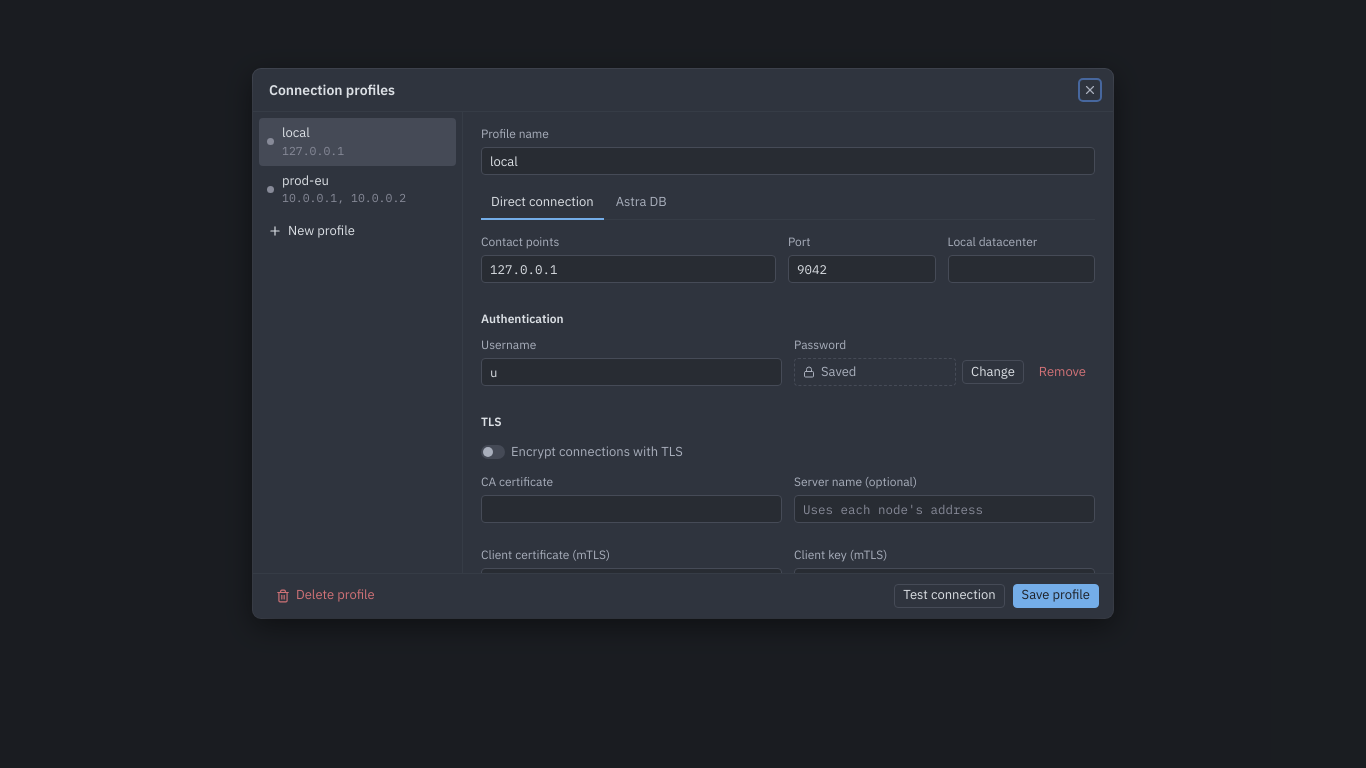
Test: ProfileDialog › tests the unsaved form and shows the stages
What coordinates should you click on to do the following:
click the button "Test connection"
I would click on:
 (949, 596)
Its box is [894,584,1005,608].
(page scrolled)
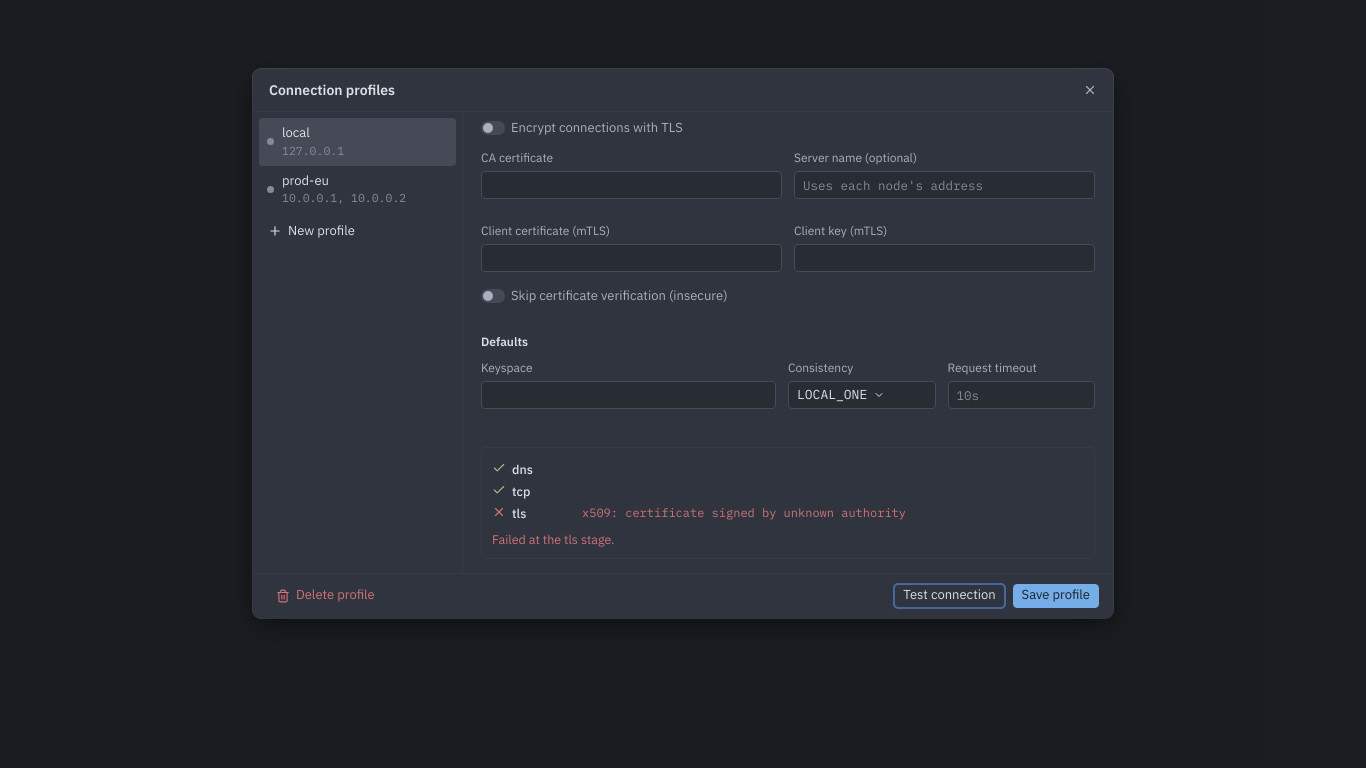
Now the text "Failed at the tls stage." is shown, box [492,531,614,547]
Now the number of list items is 3, box [492,461,533,477]; [492,483,530,499]; [492,505,906,521]
